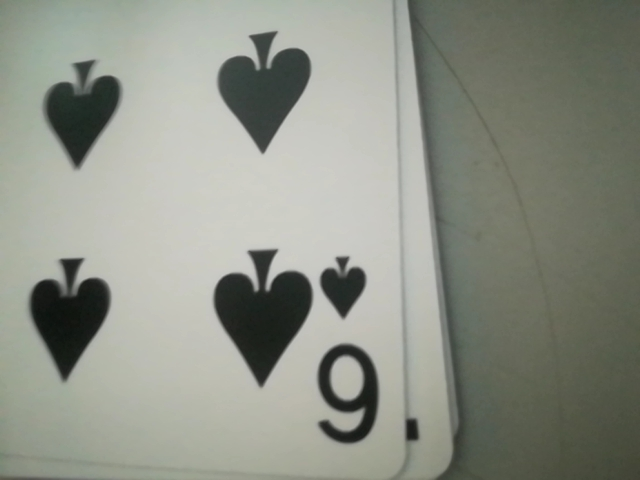ht 6: (311, 246, 387, 454)
